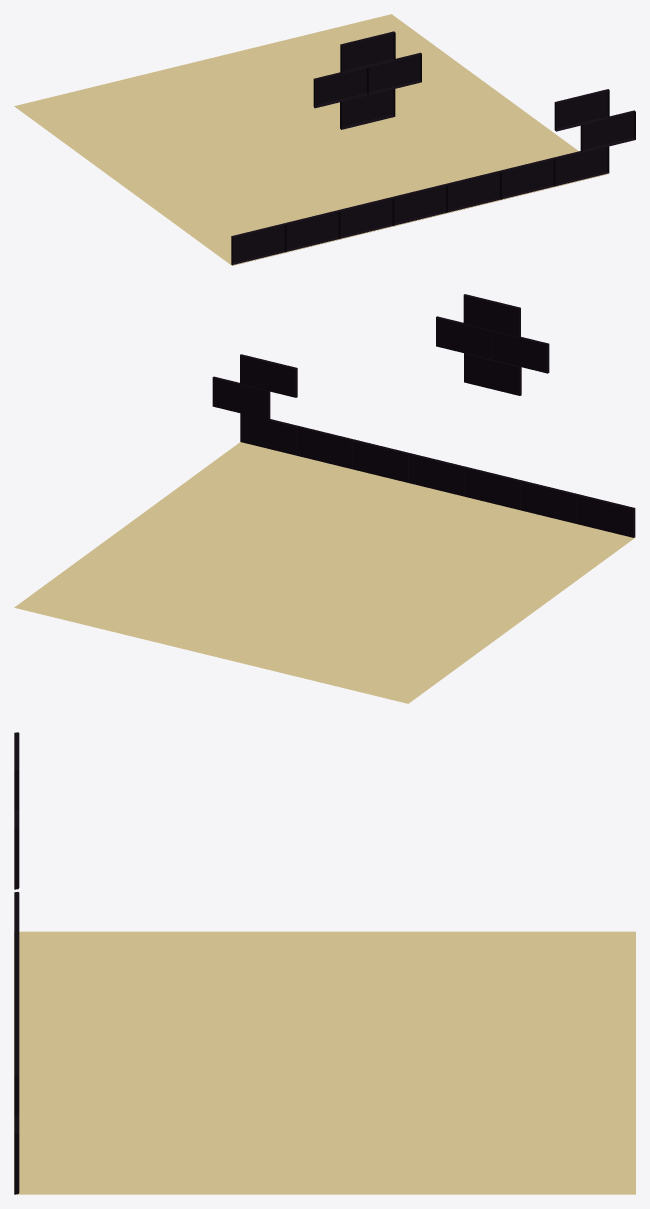
Rendered from side_top_brick.FBX.
3 renders of one model, top to bottom at view 1: azimuth 30°, elevation 25°; view 2: azimuth 150°, elevation 25°; view 3: azimuth 270°, elevation 25°, orthographic. The views are drawn at different scales.
Parts seen in each view (by area): view 1: Box001, Brick029, Brick007, Brick018, Brick019, Brick006, Brick030, Brick001, Brick026, Brick027, Brick002, Brick003 (+2 smaller); view 2: Box001, Brick007, Brick019, Brick030, Brick027, Brick018, Brick002, Brick005, Brick006, Brick004, Brick003, Brick029 (+2 smaller); view 3: Box001.
Part boxes in pixels (x1=…): Box001: x1=14, y1=14, x2=609, y2=265; Brick029: x1=340, y1=87, x2=395, y2=129; Brick007: x1=231, y1=223, x2=286, y2=265; Brick018: x1=580, y1=110, x2=635, y2=152; Brick019: x1=554, y1=89, x2=609, y2=131; Brick006: x1=339, y1=197, x2=393, y2=239; Brick030: x1=340, y1=31, x2=395, y2=73; Brick001: x1=554, y1=144, x2=609, y2=186; Brick026: x1=367, y1=52, x2=421, y2=94; Brick027: x1=313, y1=65, x2=368, y2=108; Brick002: x1=500, y1=157, x2=555, y2=199; Brick003: x1=393, y1=183, x2=447, y2=226; Box001: x1=14, y1=442, x2=635, y2=703; Brick007: x1=577, y1=494, x2=635, y2=537; Brick019: x1=240, y1=354, x2=297, y2=397; Brick030: x1=463, y1=294, x2=520, y2=337; Brick027: x1=491, y1=331, x2=549, y2=373; Brick018: x1=212, y1=376, x2=270, y2=419; Brick002: x1=296, y1=425, x2=353, y2=469; Brick005: x1=521, y1=480, x2=578, y2=524; Brick006: x1=465, y1=467, x2=522, y2=510; Brick004: x1=352, y1=439, x2=409, y2=482; Brick003: x1=409, y1=453, x2=466, y2=496; Brick029: x1=464, y1=353, x2=521, y2=395; Box001: x1=14, y1=931, x2=635, y2=1194.
Bounding box in the file's own units: 64.19 × 60 × 29.4.
